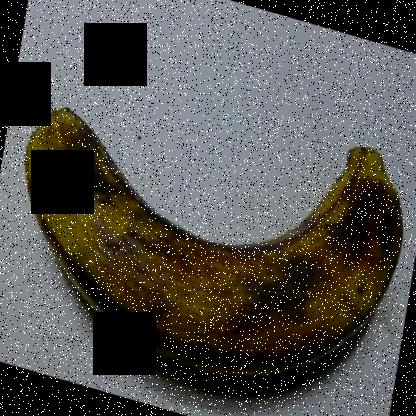overripe: (12, 86, 414, 397)
